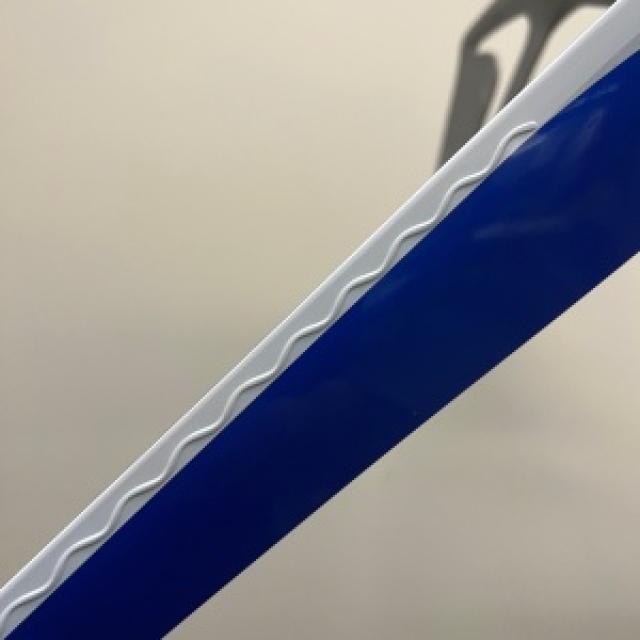healthy: (164, 256, 638, 638)
